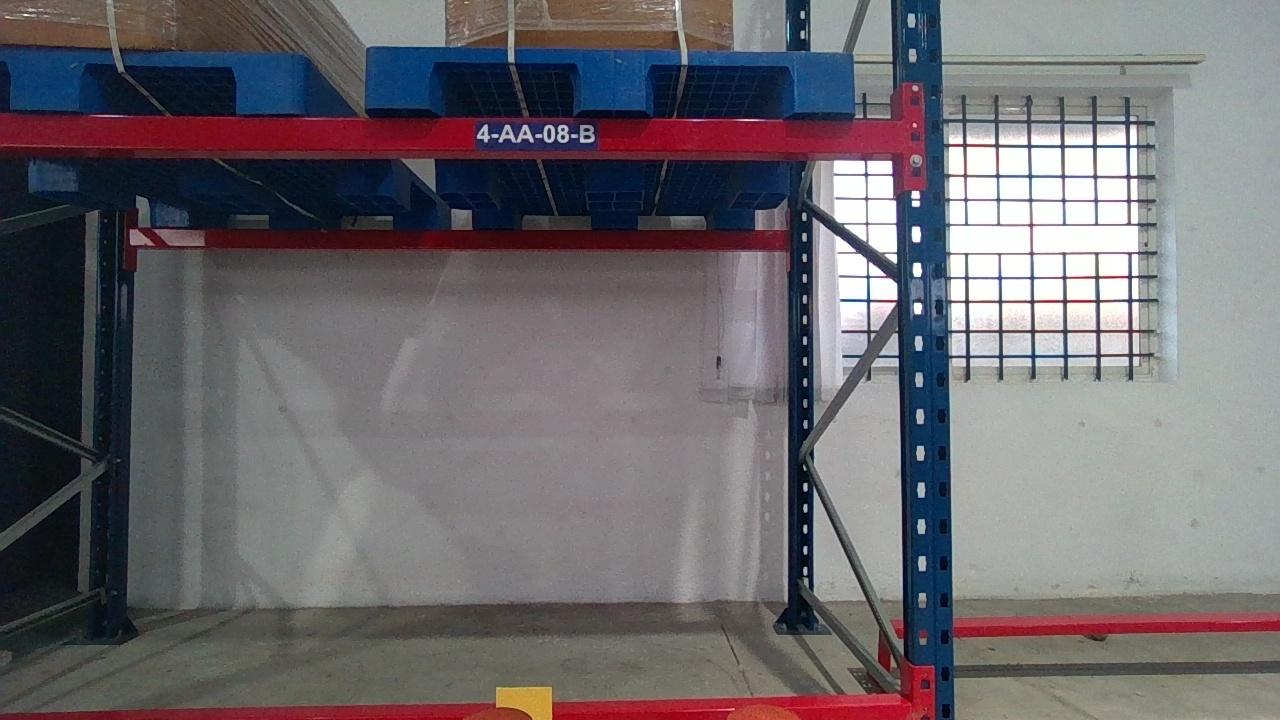h_rack: (3, 111, 908, 153)
orange_strip: (495, 687, 554, 720)
small_pallet: (363, 46, 858, 111), (0, 48, 304, 109)
